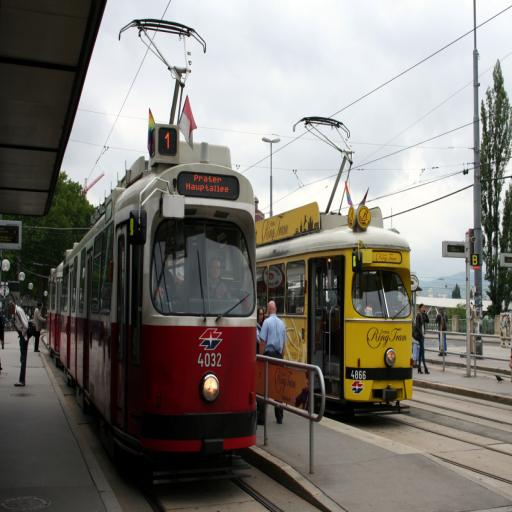E2-Tram: (44, 110, 262, 460)
